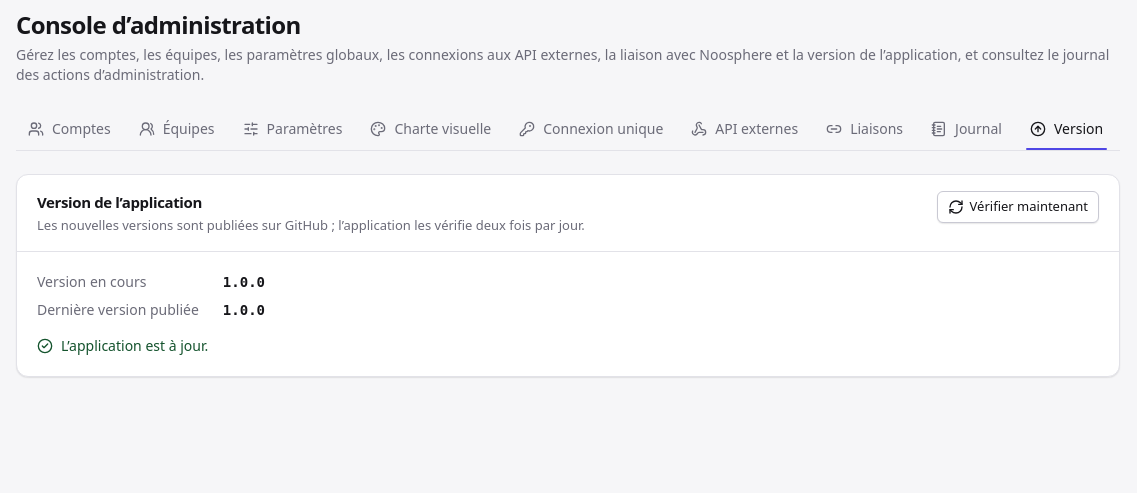
Test: Console d’administration › ouvre l’onglet Version depuis le lien et vérifie les mises à jour à la demande
The width and height of the screenshot is (1137, 493).
Expected: the text "L’application est à jour." is shown, [37,336,208,355]
Click the button "Vérifier maintenant" at x=1018, y=207, box [937,191,1099,223]
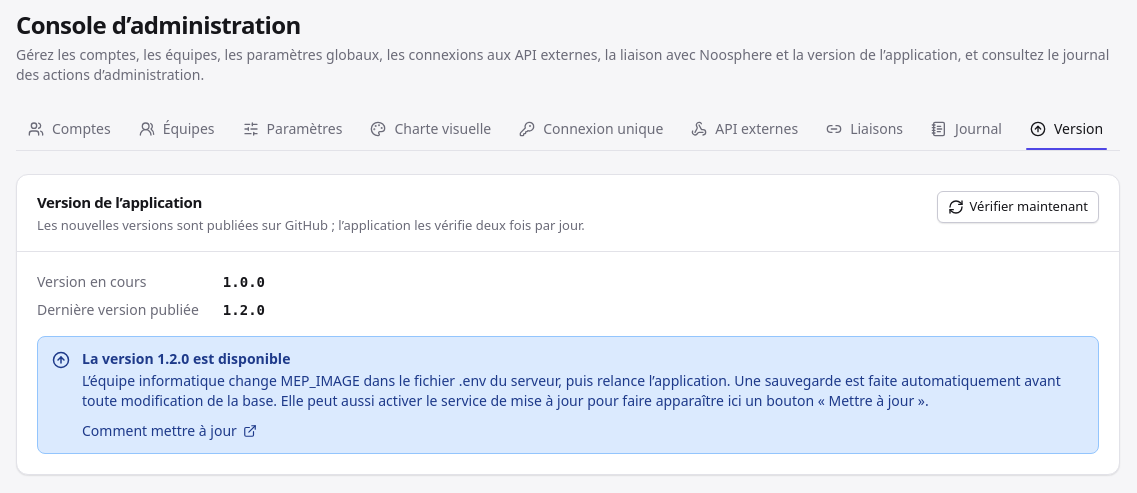
Now the text "La version 1.2.0 est disponible" is shown, box [82,349,290,368]
